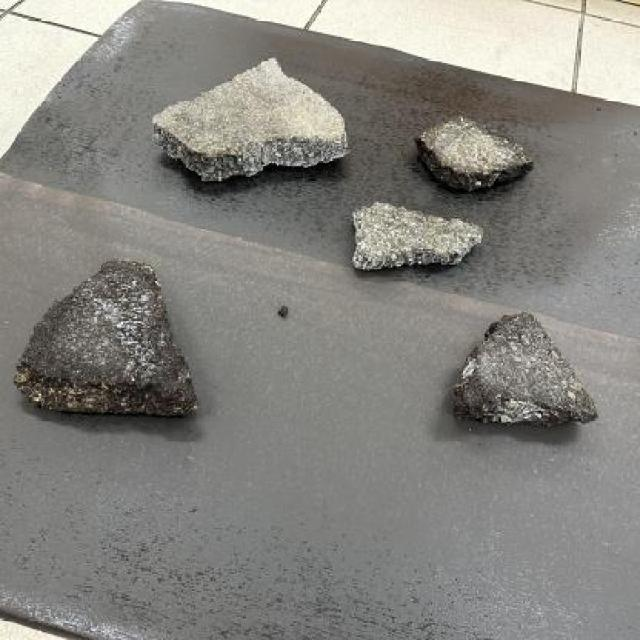Road Debris: (15, 260, 196, 417), (439, 316, 598, 442), (154, 72, 292, 190), (350, 194, 476, 278), (406, 116, 528, 192)
